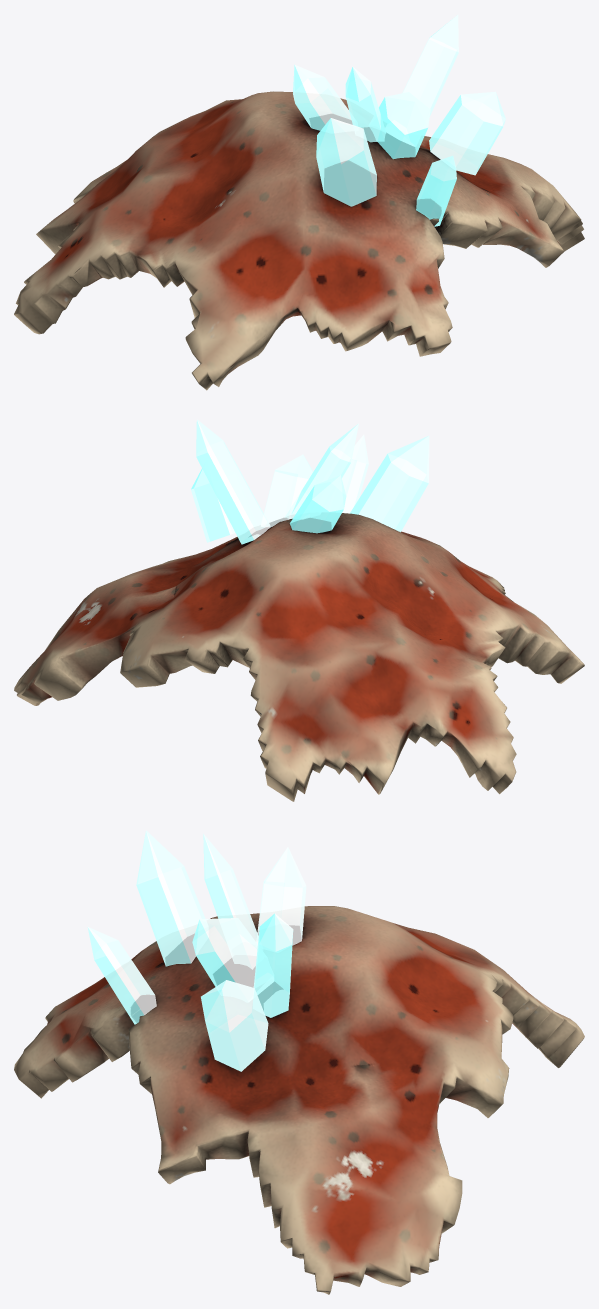
File: item_carapaca.glb
The picture shows the model from 3 angles, top to bottom: view 1: azimuth 30°, elevation 25°; view 2: azimuth 150°, elevation 25°; view 3: azimuth 270°, elevation 25°; orthographic projection. The views are drawn at different scales.
Visible parts, largest first — view 1: item_carapaca, sal2, sal0, sal4, sal5, sal3, sal6, sal1; view 2: item_carapaca, sal0, sal4, sal5, sal3, sal6, sal2, sal1; view 3: item_carapaca, sal0, sal2, sal5, sal4, sal6, sal1, sal3.
Part boxes in pixels (left/top/right/bottom): item_carapaca: left=14, top=91, right=584, bottom=390; sal2: left=429, top=91, right=505, bottom=175; sal0: left=316, top=118, right=376, bottom=206; sal4: left=385, top=14, right=458, bottom=142; sal5: left=370, top=92, right=430, bottom=159; sal3: left=293, top=64, right=352, bottom=130; sal6: left=345, top=67, right=385, bottom=142; sal1: left=416, top=155, right=456, bottom=226; item_carapaca: left=14, top=513, right=584, bottom=801; sal0: left=350, top=436, right=429, bottom=532; sal4: left=196, top=419, right=270, bottom=544; sal5: left=261, top=454, right=313, bottom=527; sal3: left=289, top=475, right=346, bottom=533; sal6: left=285, top=423, right=358, bottom=518; sal2: left=191, top=468, right=235, bottom=542; sal1: left=342, top=434, right=368, bottom=513; item_carapaca: left=14, top=906, right=584, bottom=1294; sal0: left=136, top=830, right=205, bottom=966; sal2: left=201, top=980, right=268, bottom=1071; sal5: left=192, top=918, right=273, bottom=994; sal4: left=254, top=913, right=293, bottom=1017; sal6: left=203, top=834, right=258, bottom=968; sal1: left=87, top=927, right=156, bottom=1024; sal3: left=257, top=847, right=306, bottom=945.
Size of the model in its own units: 0.2802 by 0.1467 by 0.2368.
8 materials, 1 textured.
